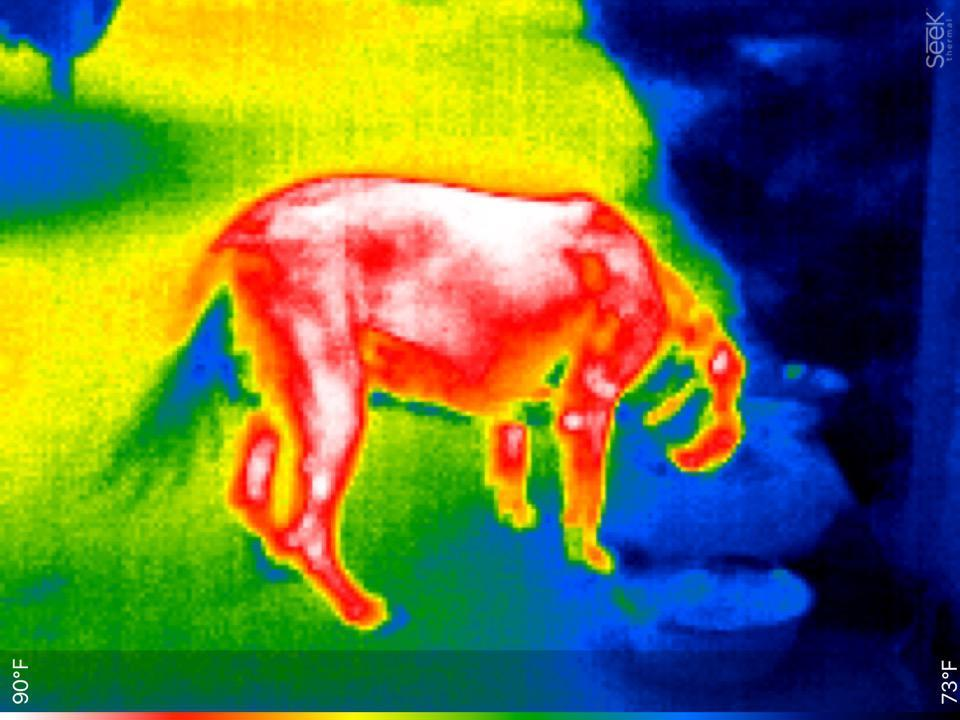dog: (172, 160, 751, 632)
